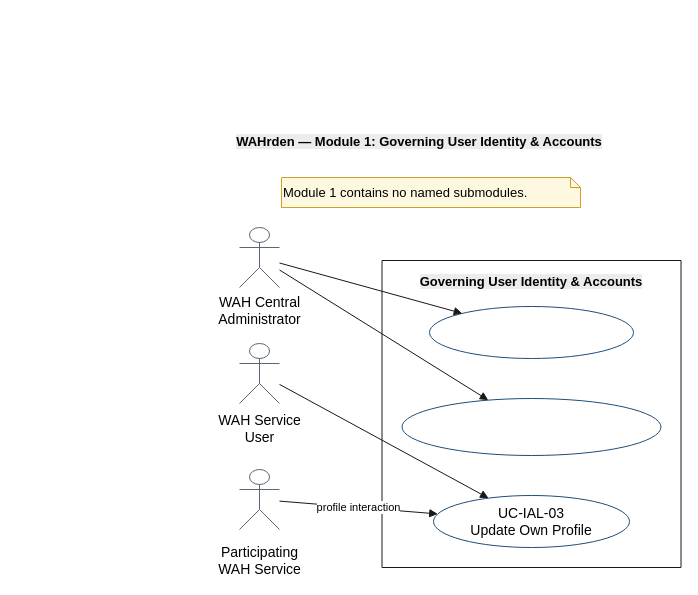
This 698x595 diagram has some shape labels left out. Here are the shapes that lost their labels. From the top down, the centre of each, then its label:
[531,332]: UC-IAL-01 Create User Account
[531,427]: UC-IAL-02 Change User Account Status
